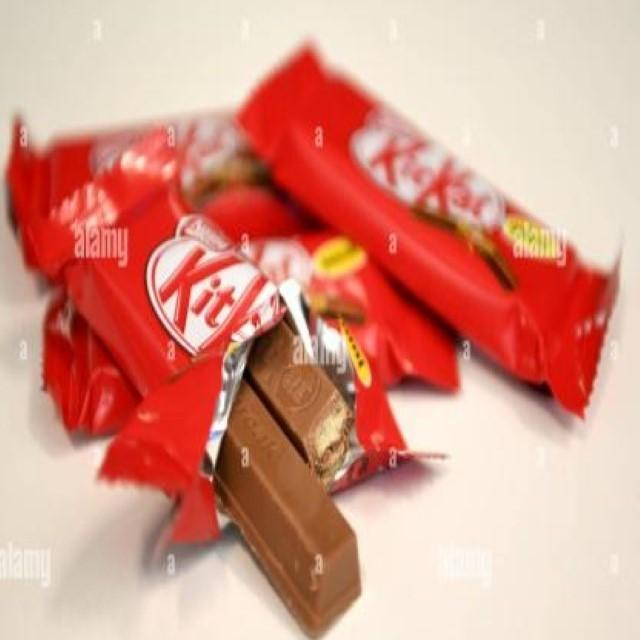kitkat_chocolate: (301, 81, 640, 345), (120, 190, 385, 380)
